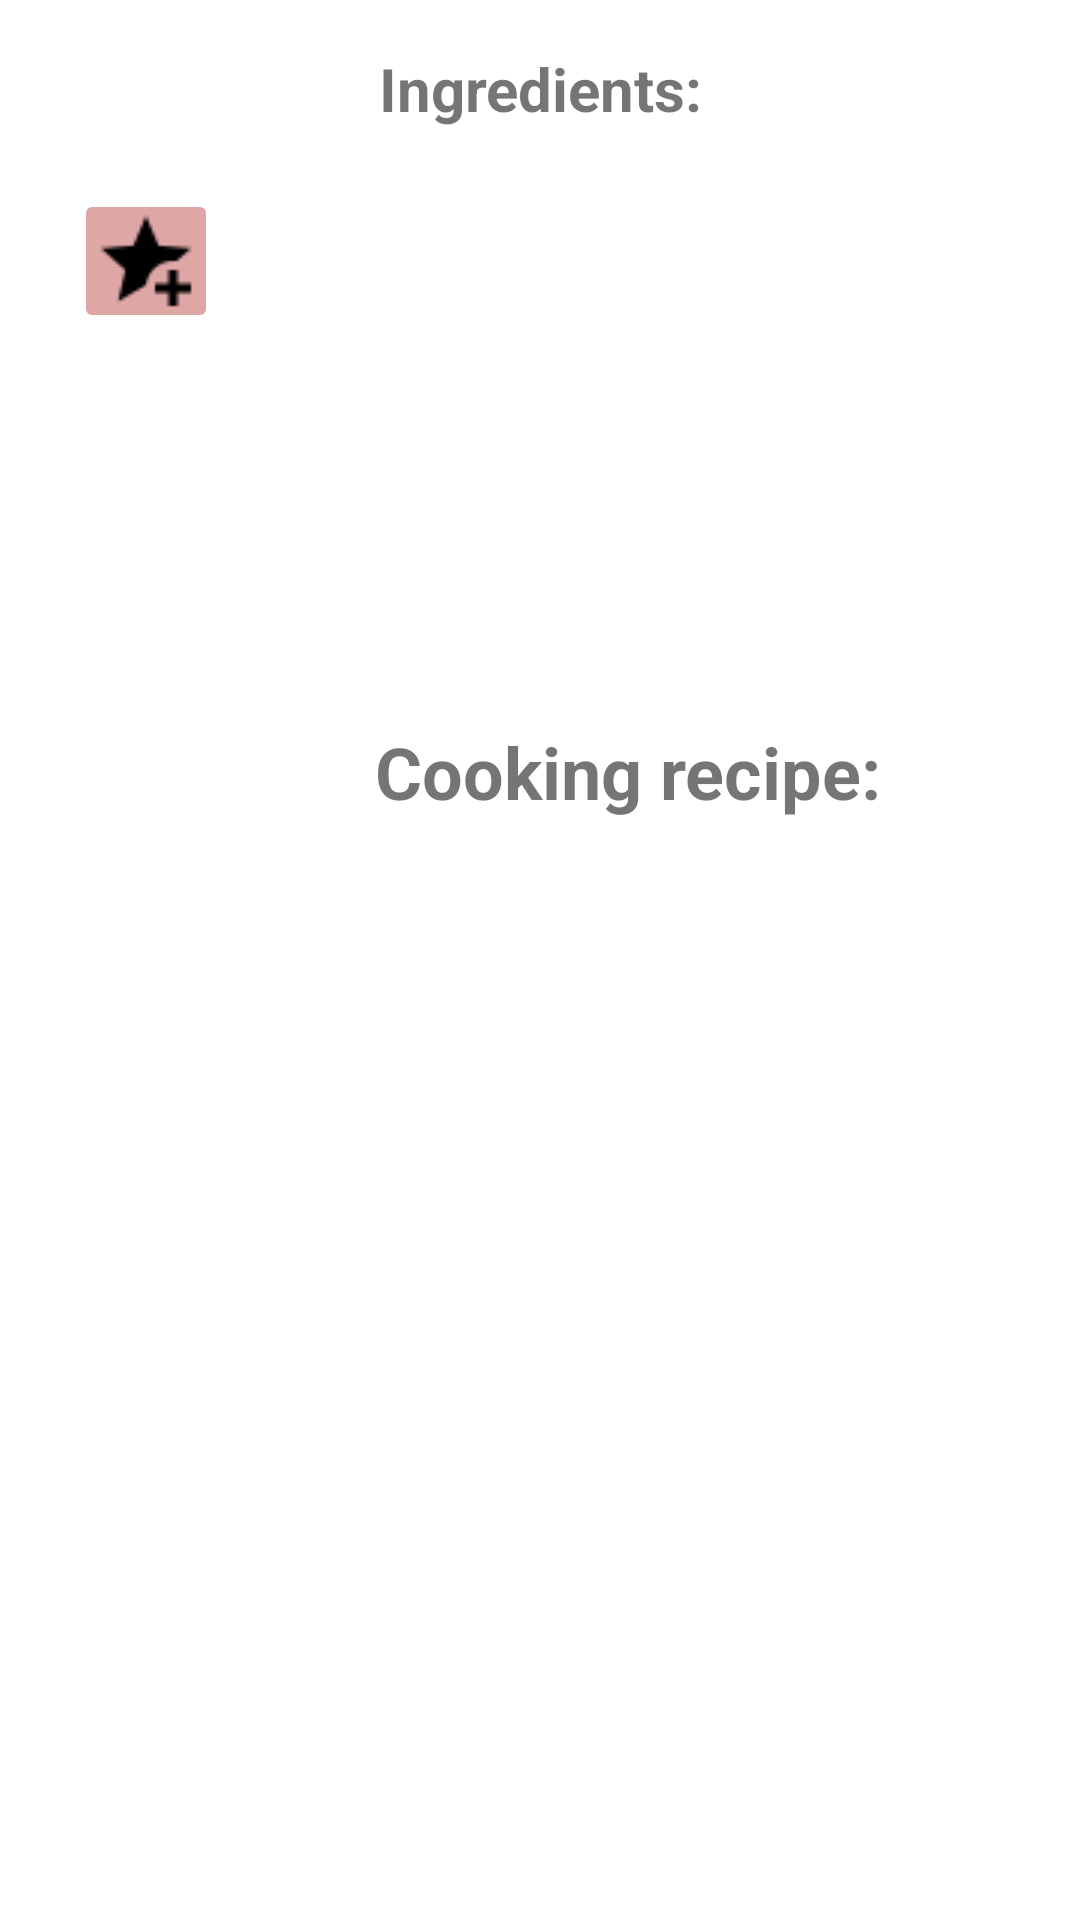

Locate icon controls on the screen. Image size 1080px×1920px, boxes as bbox(x1, y1, x2, y2).
star plus: bbox(86, 207, 206, 315)
